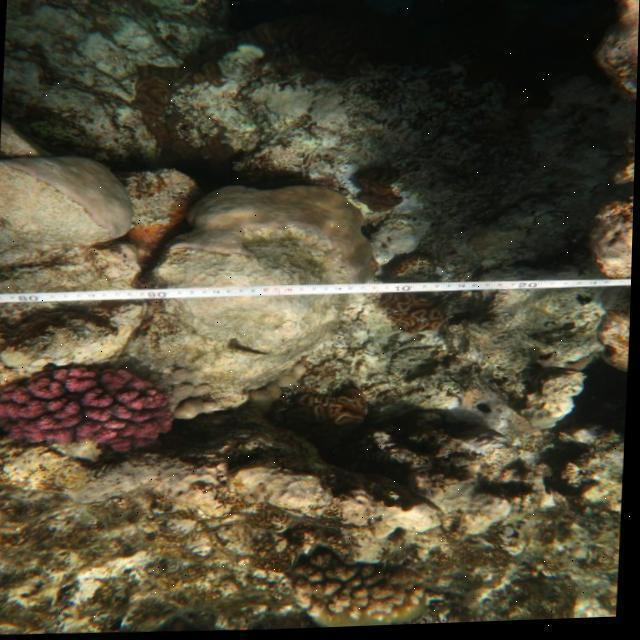Healthy Coral: (0, 352, 199, 472)
